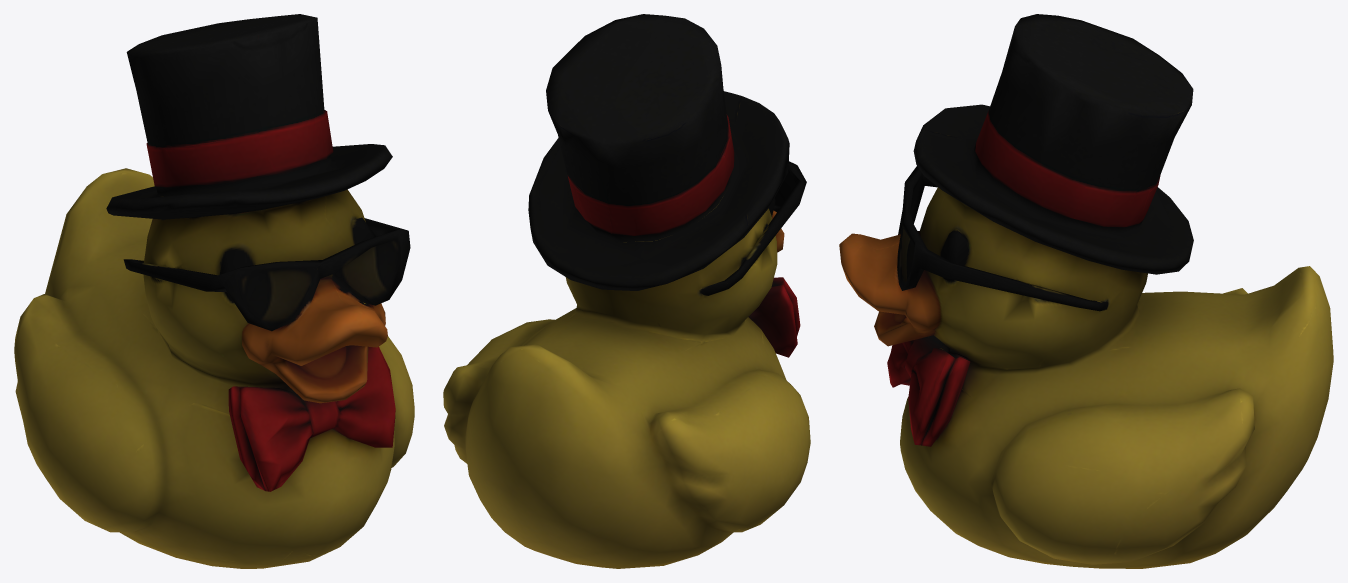
Rendered from Q_ducky_01.glb.
The picture shows the model from 3 angles, left to right: view 1: azimuth 30°, elevation 25°; view 2: azimuth 150°, elevation 25°; view 3: azimuth 270°, elevation 25°; orthographic projection. The views are drawn at different scales.
Visible parts, largest first — view 1: Prp_Oth_QuackDucky_Lod0; view 2: Prp_Oth_QuackDucky_Lod0; view 3: Prp_Oth_QuackDucky_Lod0.
Part boxes in pixels (box(x1,y1,x2,y2)): Prp_Oth_QuackDucky_Lod0: box(14, 14, 414, 568); Prp_Oth_QuackDucky_Lod0: box(443, 14, 810, 568); Prp_Oth_QuackDucky_Lod0: box(839, 14, 1333, 568).
Size of the model in its own units: 0.2981 by 0.4271 by 0.3858.
1 material, 1 textured.
